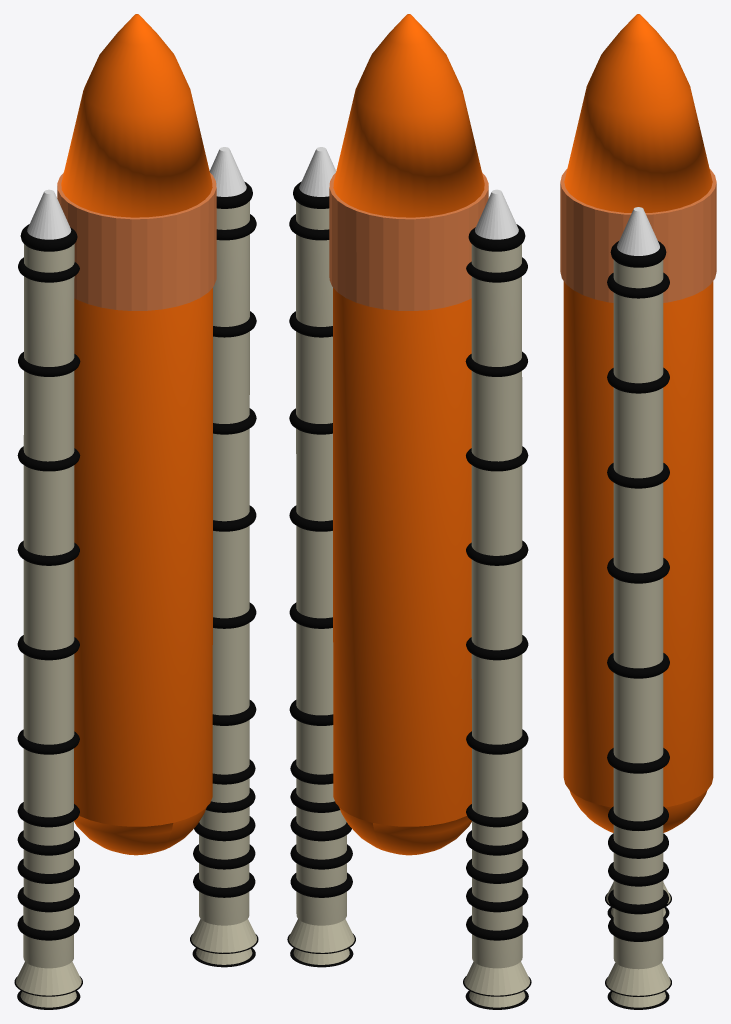
Rendered from 発射台.fbx.
3 views of the same model, side by side, from view 1: azimuth 30°, elevation 25°; view 2: azimuth 150°, elevation 25°; view 3: azimuth 270°, elevation 25° (orthographic). The views are drawn at different scales.
Visible parts, largest first — view 1: 円柱.002, 円柱.003, 円柱.001, 円柱, 円柱.006, トーラス.001, トーラス.002, トーラス.003, トーラス.004, 円柱.007, 円柱.009, 円柱.005 (+5 smaller); view 2: 円柱.002, 円柱.003, 円柱.001, 円柱, 円柱.006, トーラス.001, トーラス.002, トーラス.003, トーラス.004, 円柱.007, 円柱.009, 円柱.005 (+5 smaller); view 3: 円柱.002, 円柱.001, 円柱, 円柱.006, トーラス.004, トーラス.003, 円柱.007, 球, 円柱.004, トーラス.005, 円柱.008.
Part boxes in pixels (x1,y1,x2,y2): 円柱.002: [74, 288, 212, 855]; 円柱.003: [23, 244, 74, 968]; 円柱.001: [199, 201, 249, 925]; 円柱: [61, 14, 212, 217]; 円柱.006: [57, 172, 216, 310]; トーラス.001: [17, 257, 80, 754]; トーラス.002: [17, 802, 79, 940]; トーラス.003: [193, 759, 255, 897]; トーラス.004: [212, 214, 256, 725]; 円柱.007: [191, 919, 256, 952]; 円柱.009: [16, 961, 81, 995]; 円柱.005: [27, 189, 71, 239]; 円柱.002: [333, 288, 471, 855]; 円柱.003: [471, 244, 522, 968]; 円柱.001: [296, 201, 346, 925]; 円柱: [333, 14, 484, 217]; 円柱.006: [329, 172, 488, 310]; トーラス.001: [465, 257, 528, 754]; トーラス.002: [466, 802, 528, 940]; トーラス.003: [290, 759, 352, 897]; トーラス.004: [289, 214, 333, 725]; 円柱.007: [288, 919, 354, 952]; 円柱.009: [464, 961, 530, 995]; 円柱.005: [475, 189, 518, 239]; 円柱.002: [563, 281, 713, 807]; 円柱.001: [613, 260, 663, 969]; 円柱: [564, 14, 712, 212]; 円柱.006: [560, 169, 716, 302]; トーラス.004: [607, 272, 669, 773]; トーラス.003: [608, 806, 668, 941]; 円柱.007: [606, 962, 670, 995]; 球: [569, 790, 707, 832]; 円柱.004: [617, 207, 659, 255]; トーラス.005: [610, 241, 666, 267]; 円柱.008: [611, 992, 665, 1007].
Bounding box in the file's own units: 2049 × 8008 × 1205.
